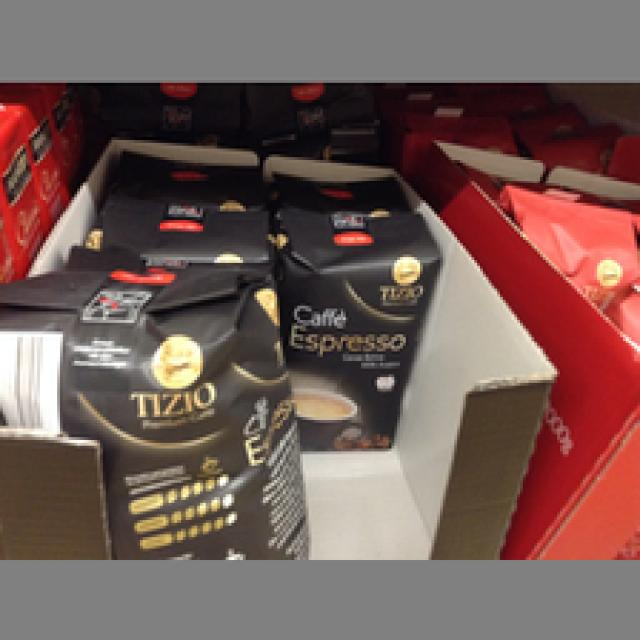groceries: (0, 269, 306, 554), (269, 174, 440, 449)
